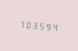five: (39, 20, 45, 31)
four: (53, 21, 59, 32)
nine: (46, 20, 52, 32)
seven: (17, 18, 23, 29)
three: (32, 19, 38, 30)
zero: (24, 18, 30, 30)
